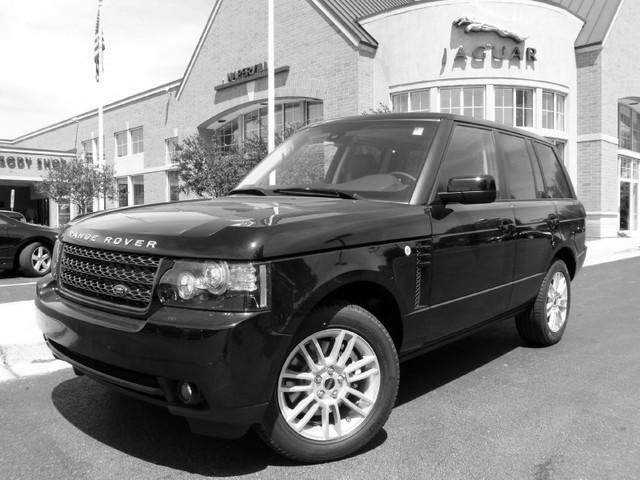car: (37, 114, 588, 463)
